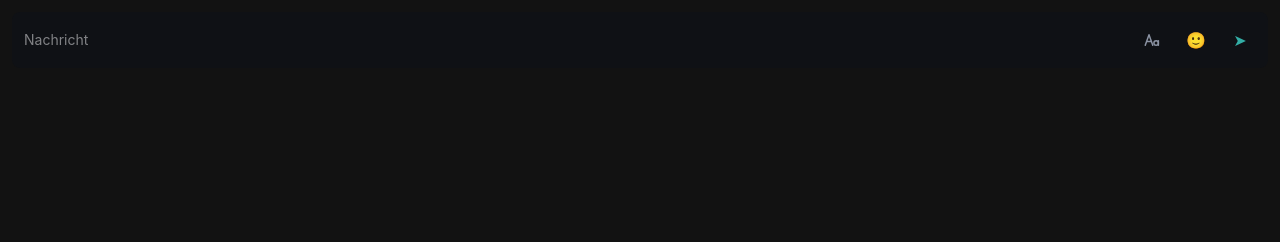
Composer: commands (design note 4.11) › navigates with the arrow keys, closes with Escape and sends unknown commands as text
This screenshot has width=1280, height=242.
Step 1. Type "/" into the dropdown labelled "Nachricht" → (574, 40), box [20,20,1128,60]
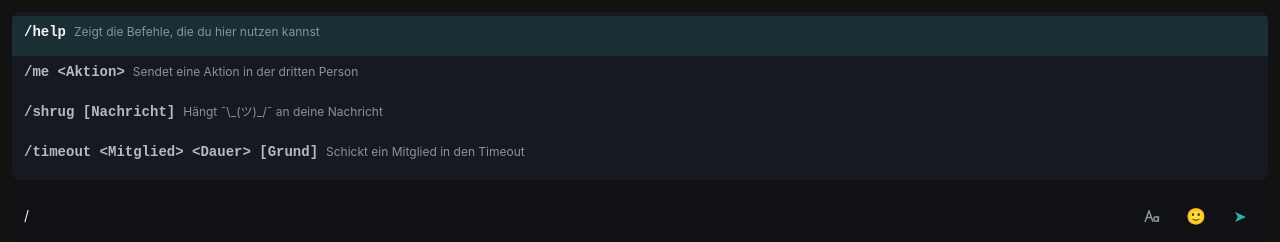
Step 2. Press Arrowdown Arrowdown
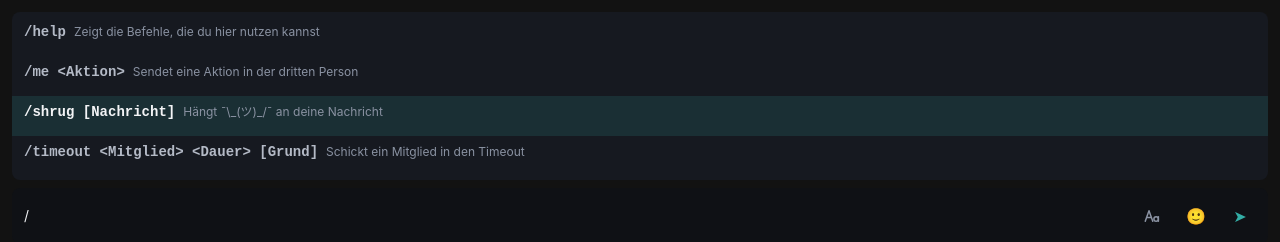
Expected: the option with test id "command-option" is selected, [12,96,1268,136]
Step 3. Press Escape
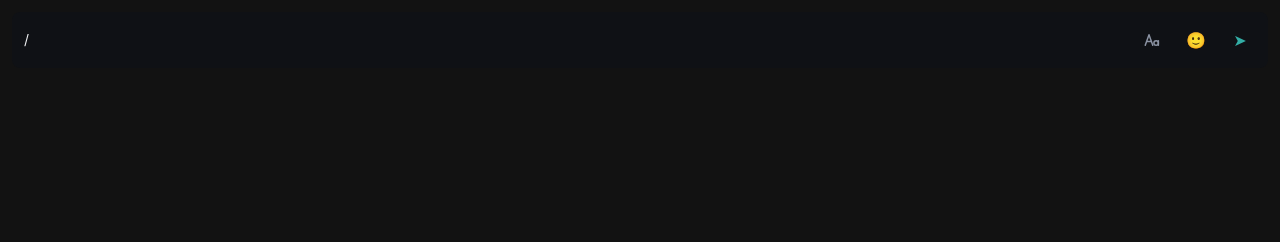
Expected: the list with test id "command-palette" is gone
Step 4. Replace the text in the dropdown named "Nachricht" with "/wetter berlin" → (574, 40), box [20,20,1128,60]
Then press Enter
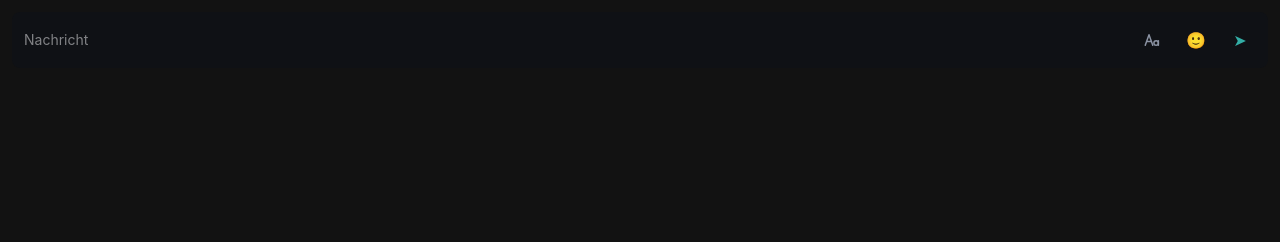
Step 5. Type "/help" into the dropdown labelled "Nachricht" → (574, 40), box [20,20,1128,60]
Then press Enter
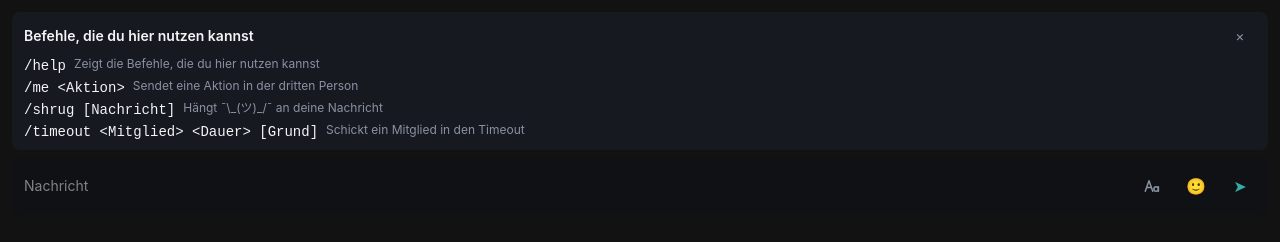
Expected: the element with test id "command-help" shows "/timeout", [24,124,318,140]
